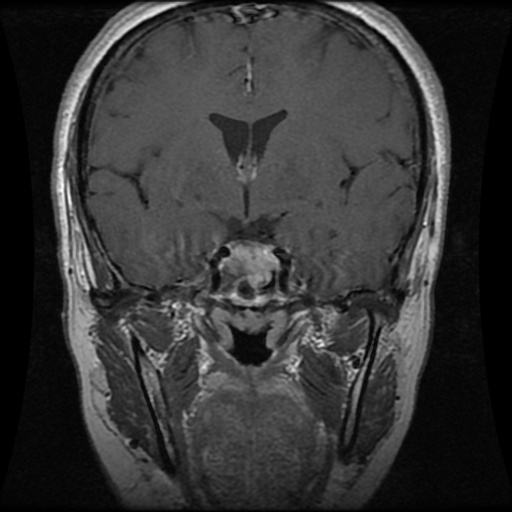pituitary: (218, 239, 280, 298)
